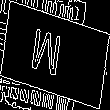M_S: (37, 25, 73, 85)
